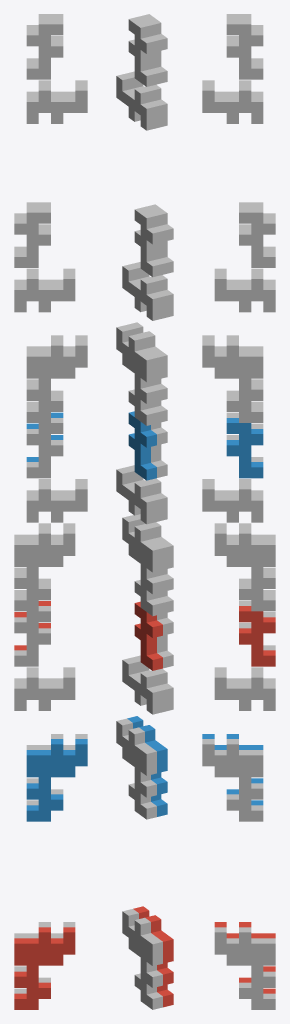
File: tiling.obj
3 views of the same model, side by side, from view 1: azimuth 90°, elevation 25°; view 2: azimuth 210°, elevation 25°; view 3: azimuth 270°, elevation 25° (orthographic).
Parts seen in each view (by area): view 1: copy_2_domain_4, copy_3_domain_2, copy_4_domain_1, copy_4_domain_4, copy_3_domain_1, copy_3_domain_3, copy_3_domain_4, copy_4_domain_2, copy_4_domain_3, copy_2_domain_3, copy_2_domain_2, copy_2_domain_1 (+20 smaller); view 2: copy_2_domain_7, copy_2_domain_8, copy_3_domain_6, copy_3_domain_7, copy_3_domain_8, copy_3_domain_5, copy_4_domain_6, copy_4_domain_7, copy_4_domain_8, copy_4_domain_5, copy_2_domain_6, copy_2_domain_5 (+20 smaller); view 3: copy_2_domain_8, copy_3_domain_6, copy_4_domain_5, copy_4_domain_8, copy_3_domain_5, copy_3_domain_7, copy_3_domain_8, copy_4_domain_6, copy_4_domain_7, copy_2_domain_7, copy_2_domain_6, copy_2_domain_5 (+20 smaller).
Part boxes in pixels (x1,y1,x2,y2): copy_2_domain_4: (26,19,63,79); copy_3_domain_2: (26,484,87,522); copy_4_domain_1: (14,927,75,965); copy_4_domain_4: (26,340,87,378); copy_3_domain_1: (14,672,75,710); copy_3_domain_3: (14,274,75,312); copy_3_domain_4: (26,85,87,123); copy_4_domain_2: (26,739,87,777); copy_4_domain_3: (14,528,75,566); copy_2_domain_3: (14,207,50,267); copy_2_domain_2: (26,418,63,478); copy_2_domain_1: (14,606,50,666); copy_2_domain_7: (134,207,162,277); copy_2_domain_8: (128,16,156,86); copy_3_domain_6: (116,467,156,524); copy_3_domain_7: (122,263,162,320); copy_3_domain_8: (116,73,156,130); copy_3_domain_5: (122,657,162,714); copy_4_domain_6: (116,718,156,775); copy_4_domain_7: (122,515,162,572); copy_4_domain_8: (116,325,156,382); copy_4_domain_5: (122,909,162,965); copy_2_domain_6: (128,411,156,480); copy_2_domain_5: (134,601,162,670); copy_2_domain_8: (226,19,263,79); copy_3_domain_6: (202,484,263,522); copy_4_domain_5: (214,927,275,965); copy_4_domain_8: (202,340,263,378); copy_3_domain_5: (214,672,275,710); copy_3_domain_7: (214,274,275,312); copy_3_domain_8: (202,85,263,123); copy_4_domain_6: (202,739,263,777); copy_4_domain_7: (214,528,275,566); copy_2_domain_7: (239,207,275,267); copy_2_domain_6: (226,418,263,478); copy_2_domain_5: (239,606,275,666).
Size of the model in its own units: 2 by 89 by 6.
